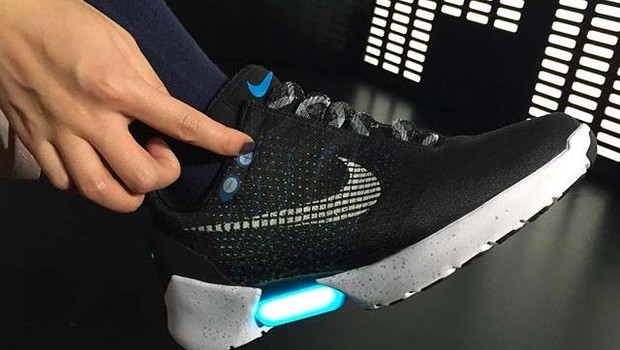nike: (185, 154, 383, 247)
